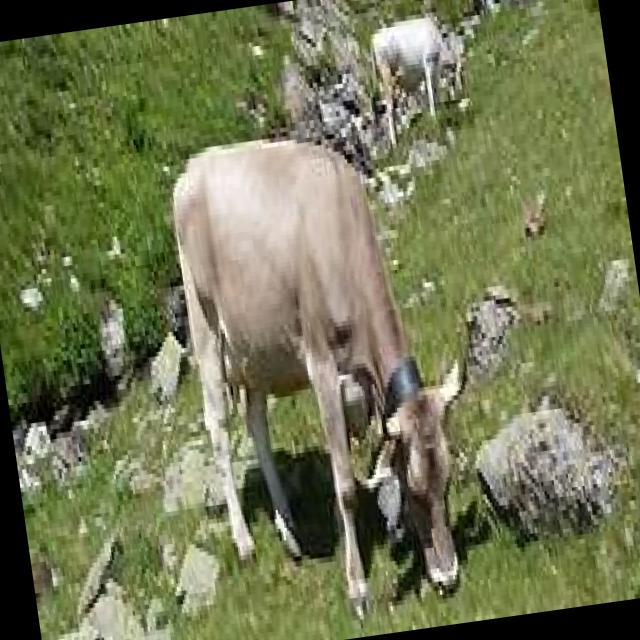animal: (163, 111, 502, 638), (366, 9, 476, 149)
